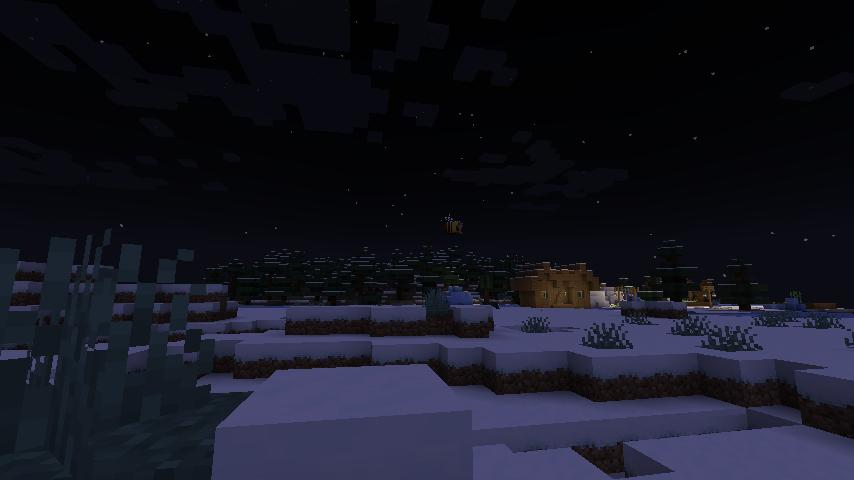bee: (439, 213, 466, 238)
